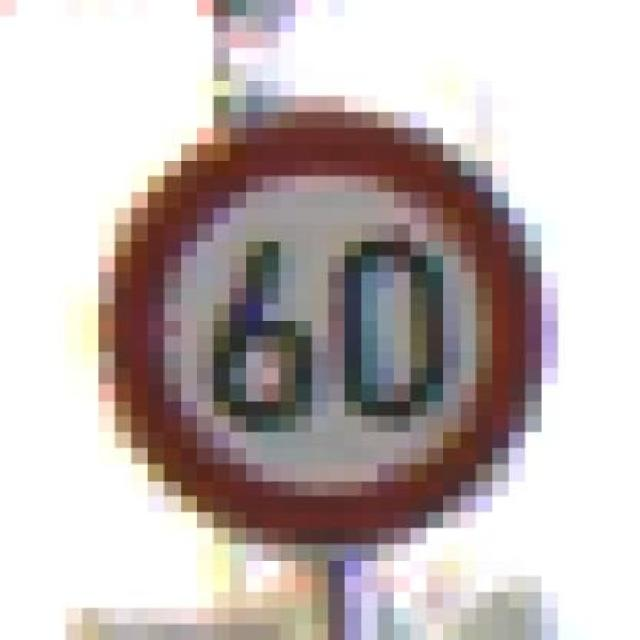forb_speed_over_60: (122, 120, 528, 538)
